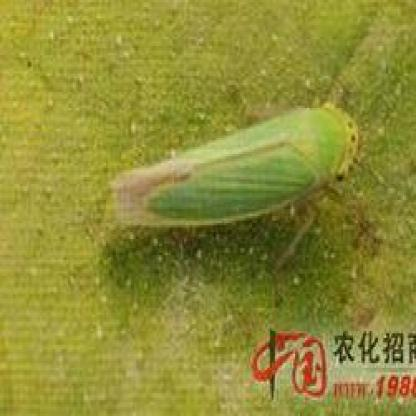Green-Leafhopper: (102, 99, 365, 277)
